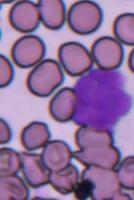M: (71, 68, 132, 132)
